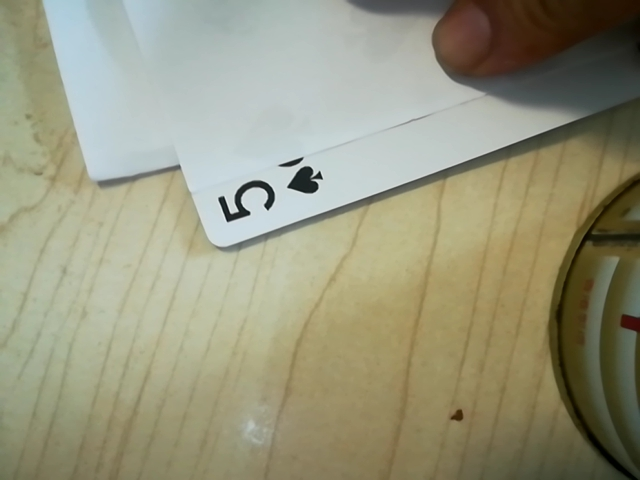ht 5: (207, 150, 335, 235)
